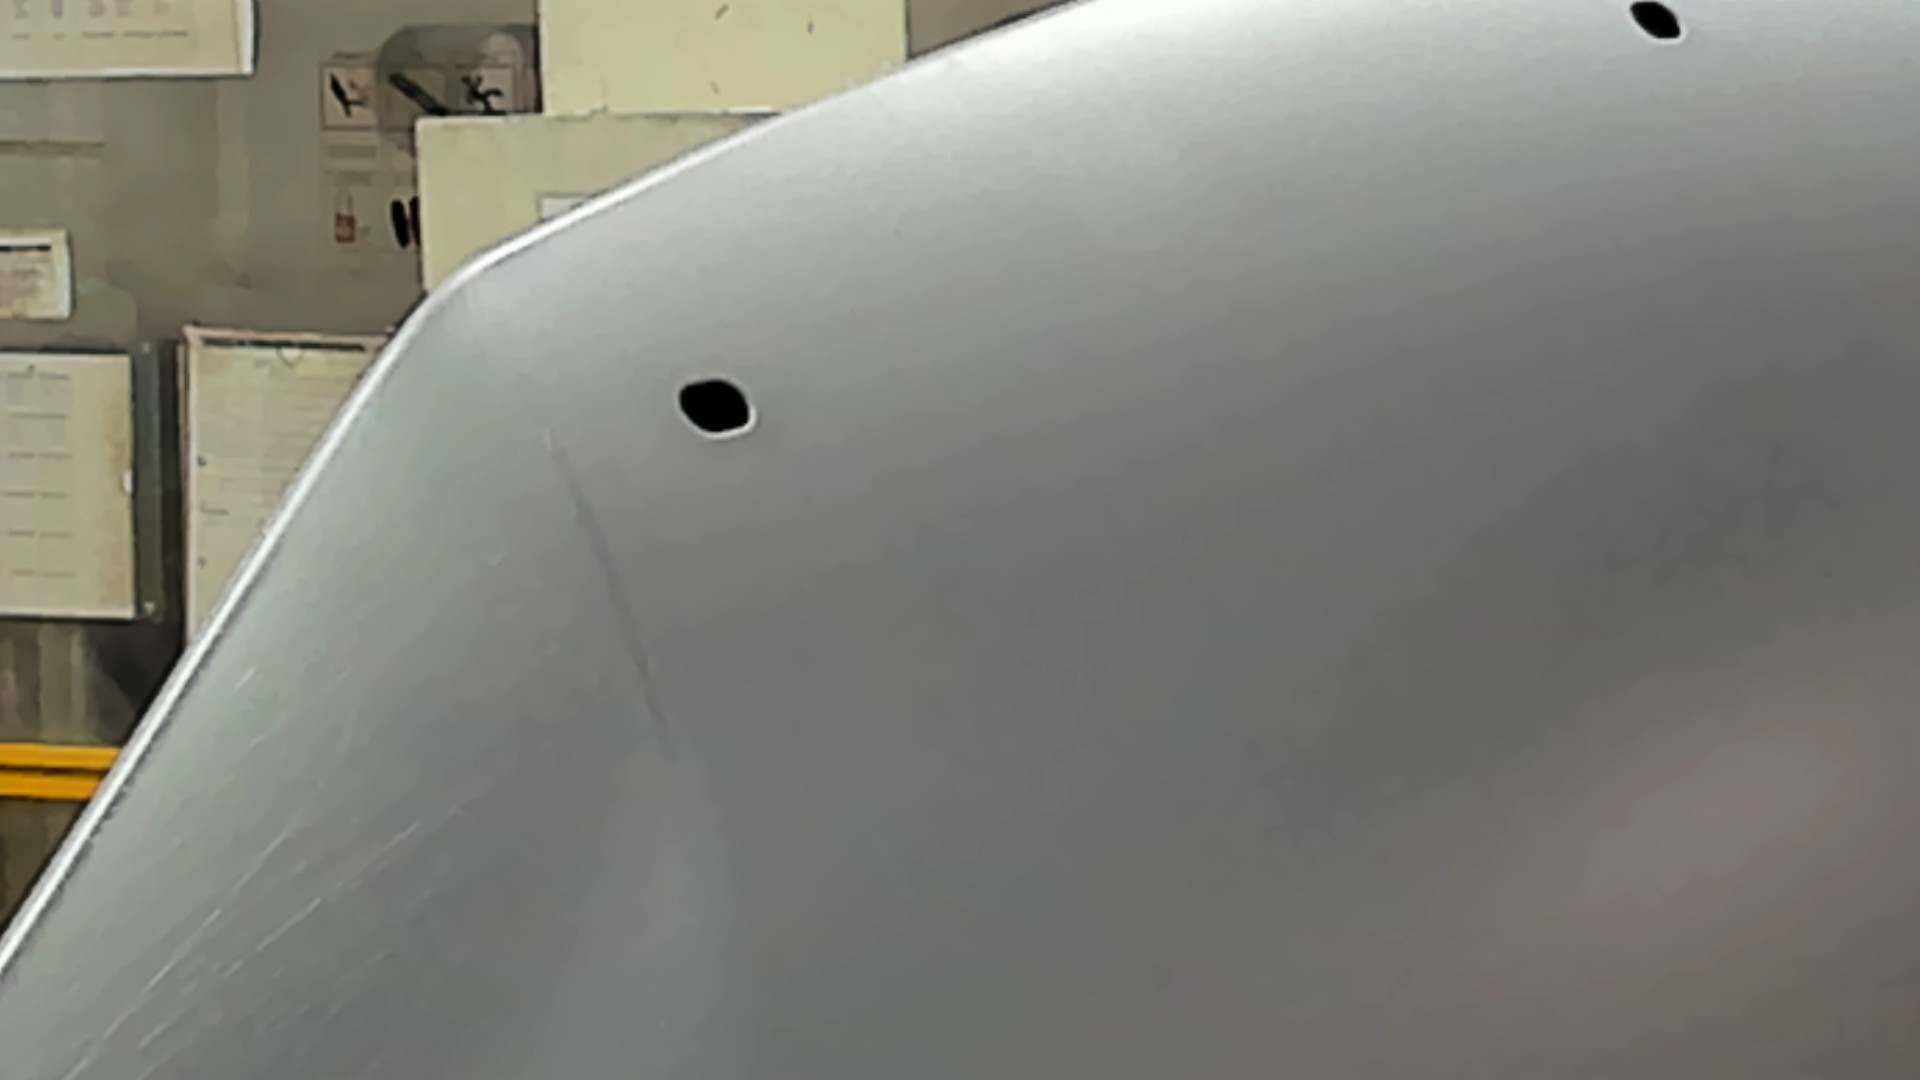amorfo: (669, 378, 760, 444), (1629, 1, 1689, 45)
